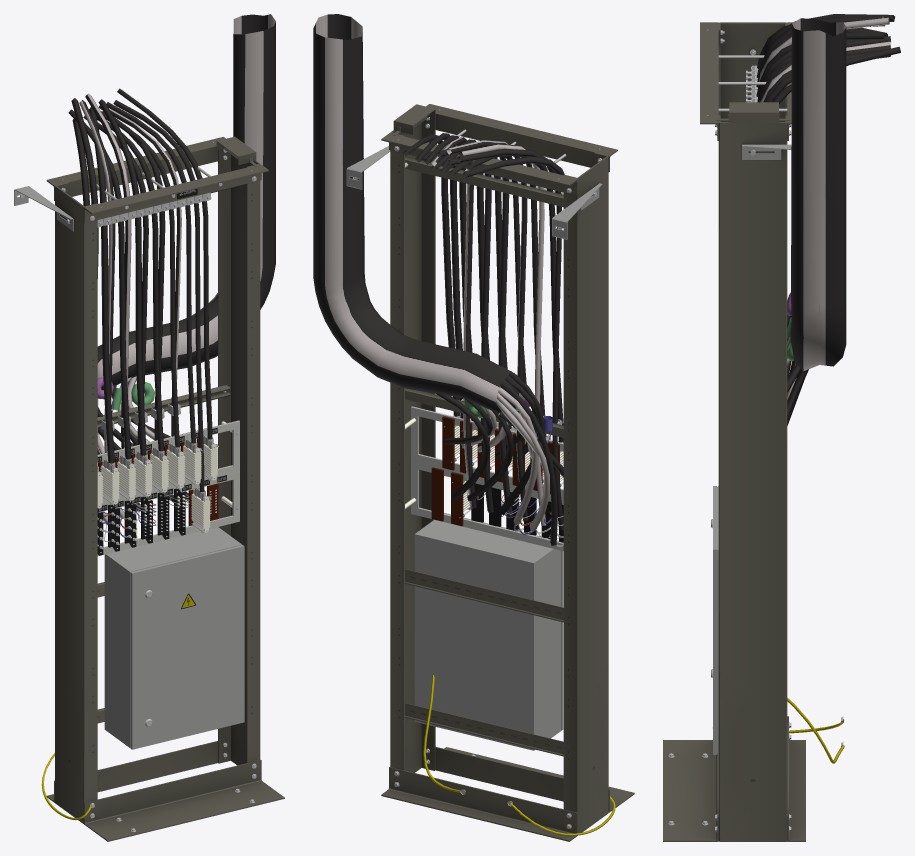
Rendered from stativ230a.fbx.
3 views of the same model, side by side, from view 1: azimuth 30°, elevation 25°; view 2: azimuth 150°, elevation 25°; view 3: azimuth 270°, elevation 25° (orthographic). The views are drawn at different scales.
Parts seen in each view (by area): view 1: cabinet_stativ230a; view 2: cabinet_stativ230a; view 3: cabinet_stativ230a.
Part boxes in pixels (<box>): cabinet_stativ230a: <box>14,14,284,841</box>; cabinet_stativ230a: <box>313,14,634,841</box>; cabinet_stativ230a: <box>663,14,900,841</box>.
Bounding box in the file's own units: 87.39 × 246 × 63.
